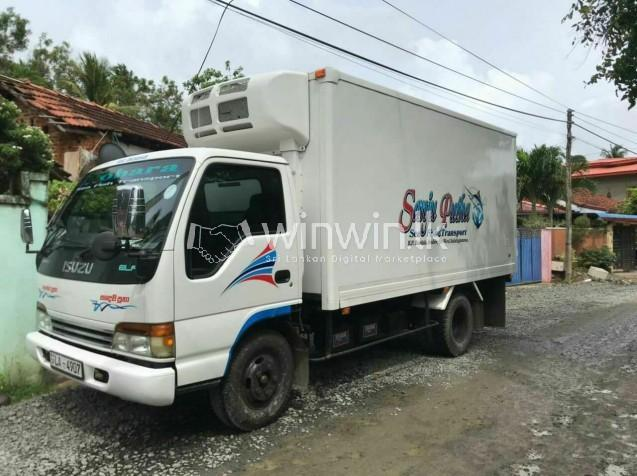truck: (21, 66, 516, 432)
